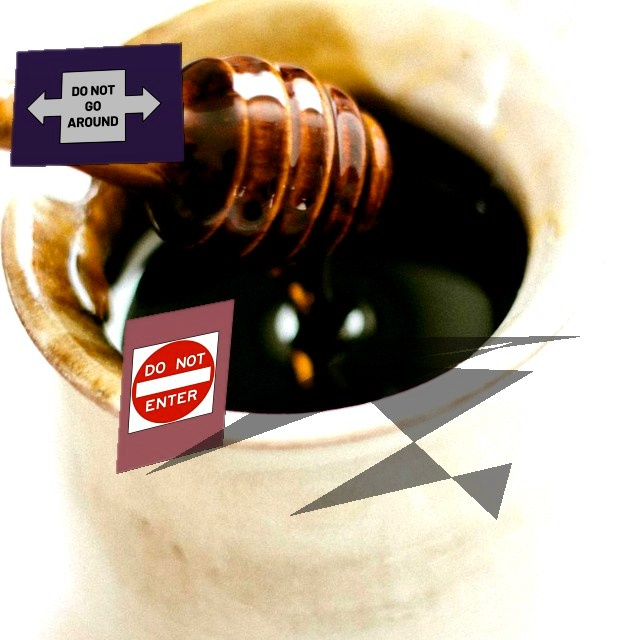DO_NOT_ENTER: (128, 331, 219, 434)
DO_NOT_GO_AROUND: (22, 67, 164, 145)
